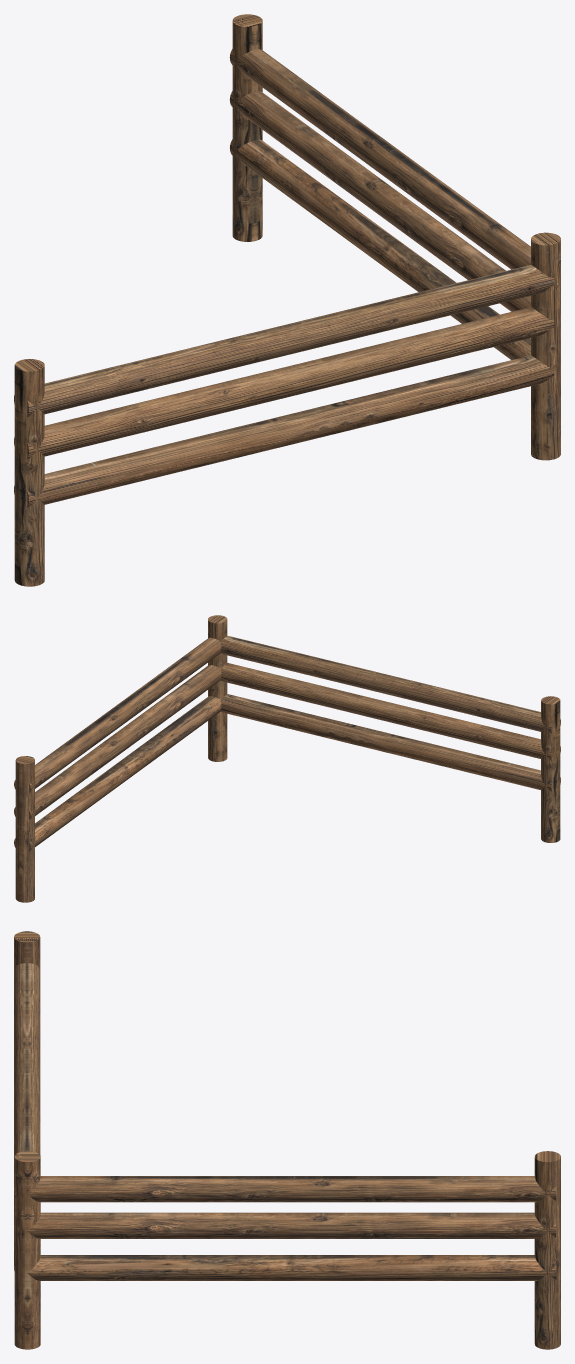
Rendered from aita2.fbx.
The picture shows the model from 3 angles, top to bottom: view 1: azimuth 30°, elevation 25°; view 2: azimuth 150°, elevation 25°; view 3: azimuth 270°, elevation 25°; orthographic projection. The views are drawn at different scales.
Visible parts, largest first — view 1: Cylinder.009; view 2: Cylinder.009; view 3: Cylinder.009.
Boxes of the visible parts, left/top/right/bottom form: Cylinder.009: left=14, top=14, right=560, bottom=586; Cylinder.009: left=14, top=615, right=560, bottom=902; Cylinder.009: left=14, top=931, right=560, bottom=1349.
Bounding box in the file's own units: 786 × 298 × 788.
